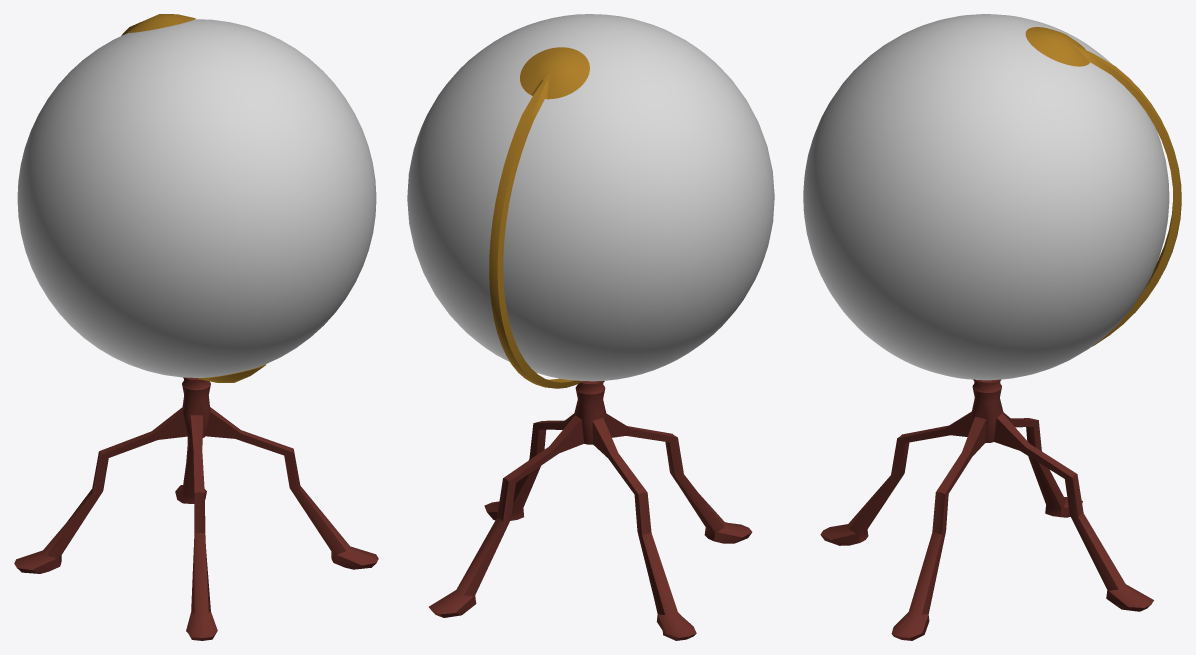
File: globe1.fbx
The picture shows the model from 3 angles, left to right: view 1: azimuth 30°, elevation 25°; view 2: azimuth 150°, elevation 25°; view 3: azimuth 270°, elevation 25°; orthographic projection. The views are drawn at different scales.
Visible parts, largest first — view 1: Sphere, Legs, Hinge; view 2: Sphere, Legs, Hinge; view 3: Sphere, Legs, Hinge.
Boxes of the visible parts, <box> form: Sphere: <box>17,19,376,377</box>; Legs: <box>14,377,378,640</box>; Hinge: <box>121,14,265,382</box>; Sphere: <box>407,14,774,381</box>; Legs: <box>429,381,752,640</box>; Hinge: <box>489,47,589,388</box>; Sphere: <box>803,14,1169,380</box>; Legs: <box>820,379,1153,640</box>; Hinge: <box>1025,27,1181,346</box>.
Bounding box in the file's own units: 1.99 × 3.24 × 2.05.
